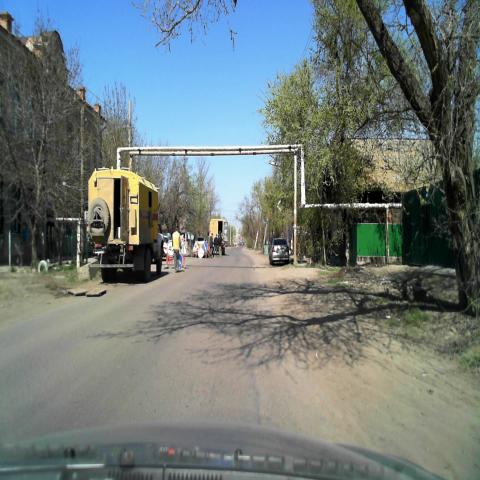1_20_3: (179, 238, 189, 255)
